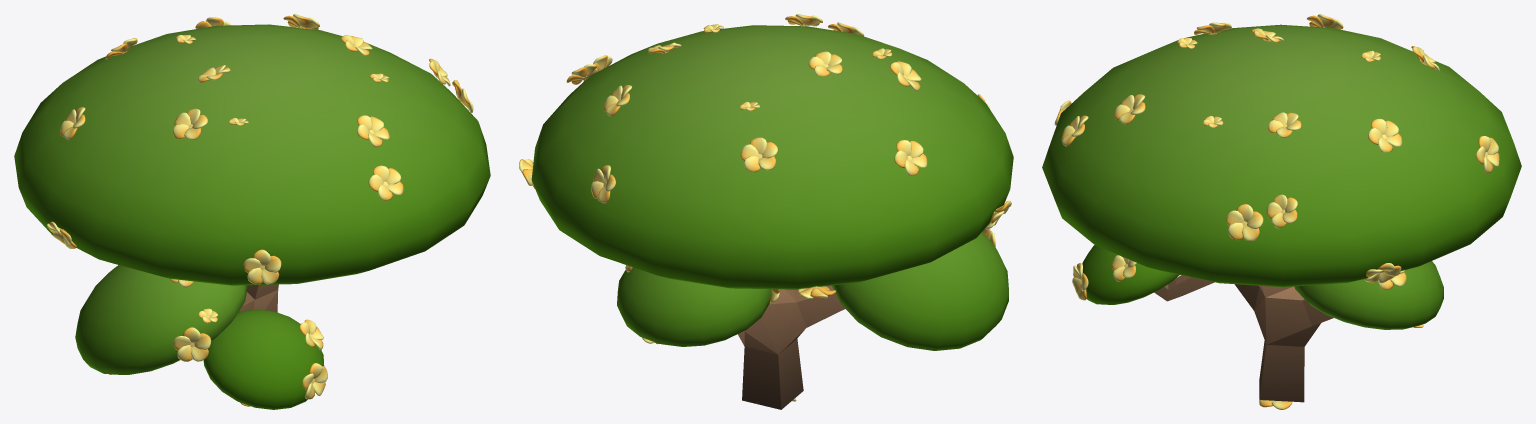
Rendered from FrangipaniTree.fbx.
The picture shows the model from 3 angles, left to right: view 1: azimuth 30°, elevation 25°; view 2: azimuth 150°, elevation 25°; view 3: azimuth 270°, elevation 25°; orthographic projection.
Parts seen in each view (by area): view 1: Frangipani; view 2: Frangipani; view 3: Frangipani.
Part boxes in pixels (x1,y1,x2,y2): Frangipani: [14, 14, 490, 409]; Frangipani: [519, 14, 1013, 409]; Frangipani: [1042, 14, 1521, 409].
Size of the model in its own units: 697 by 552 by 681.
